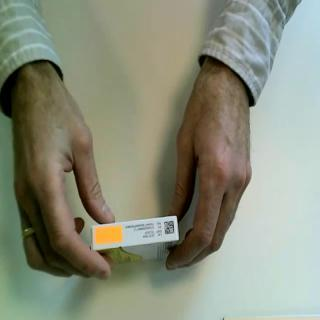buprefarm5ug_hour: (88, 214, 182, 267)
